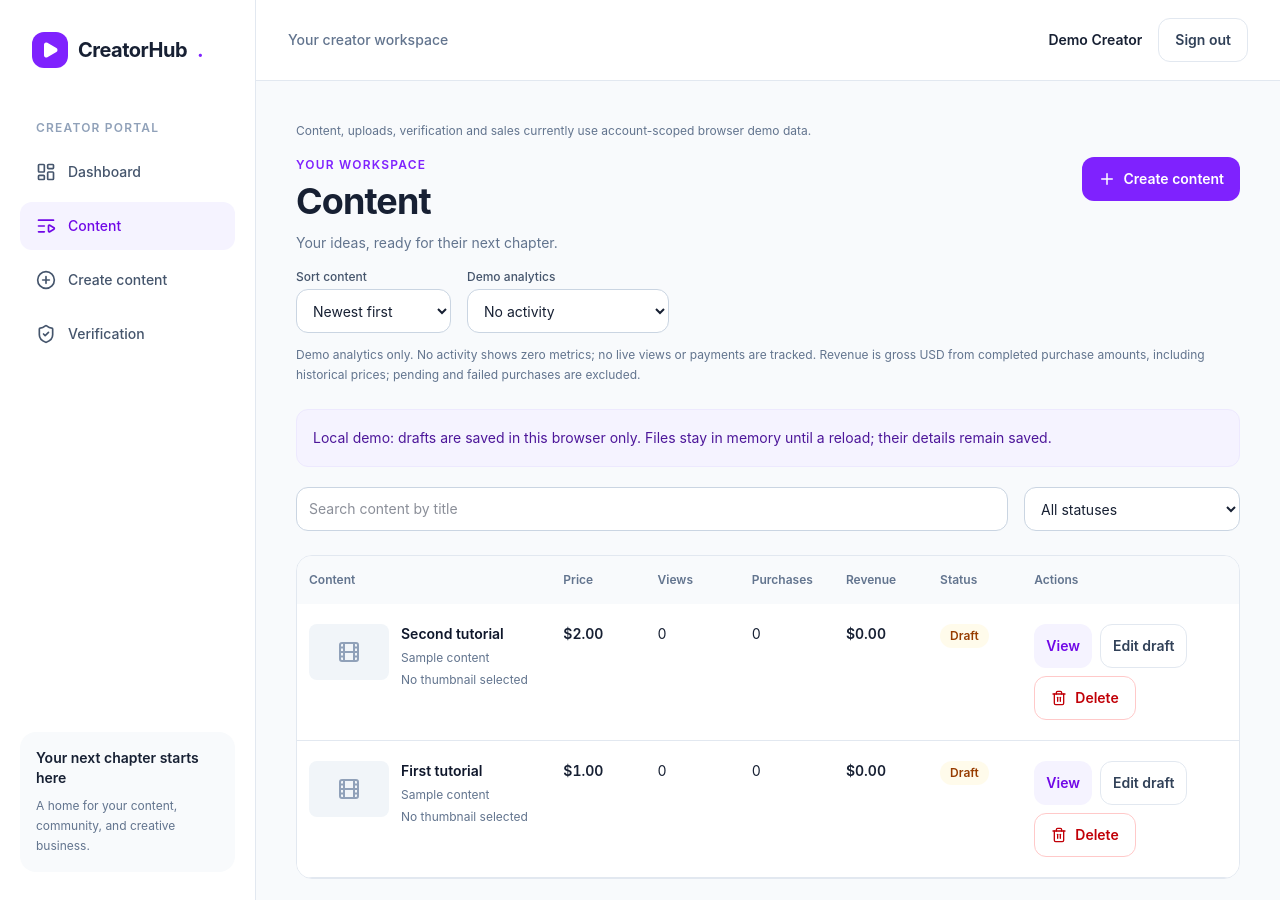
it: publication experience › searches and filters content with a useful no-results state
This screenshot has width=1280, height=900.
In the search field labelled "Search content": (652, 509) [296,487,1008,531], type "First"
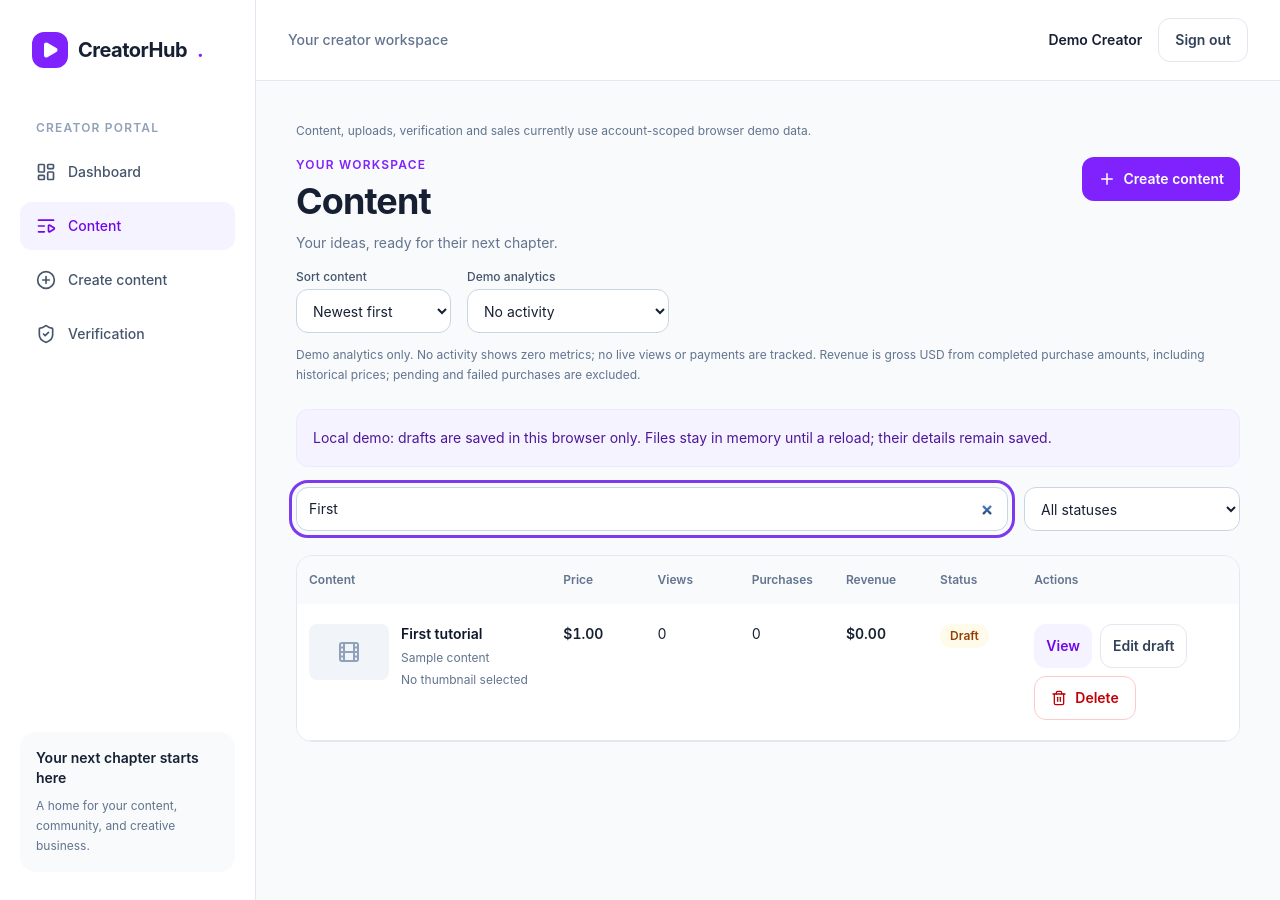
expect the heading "First tutorial" is shown: met, box [401,625,482,642]
expect the heading "Second tutorial" is gone: met
Select "Published" in the dropdown named "Filter by status": (1132, 509) [1024,487,1240,531]
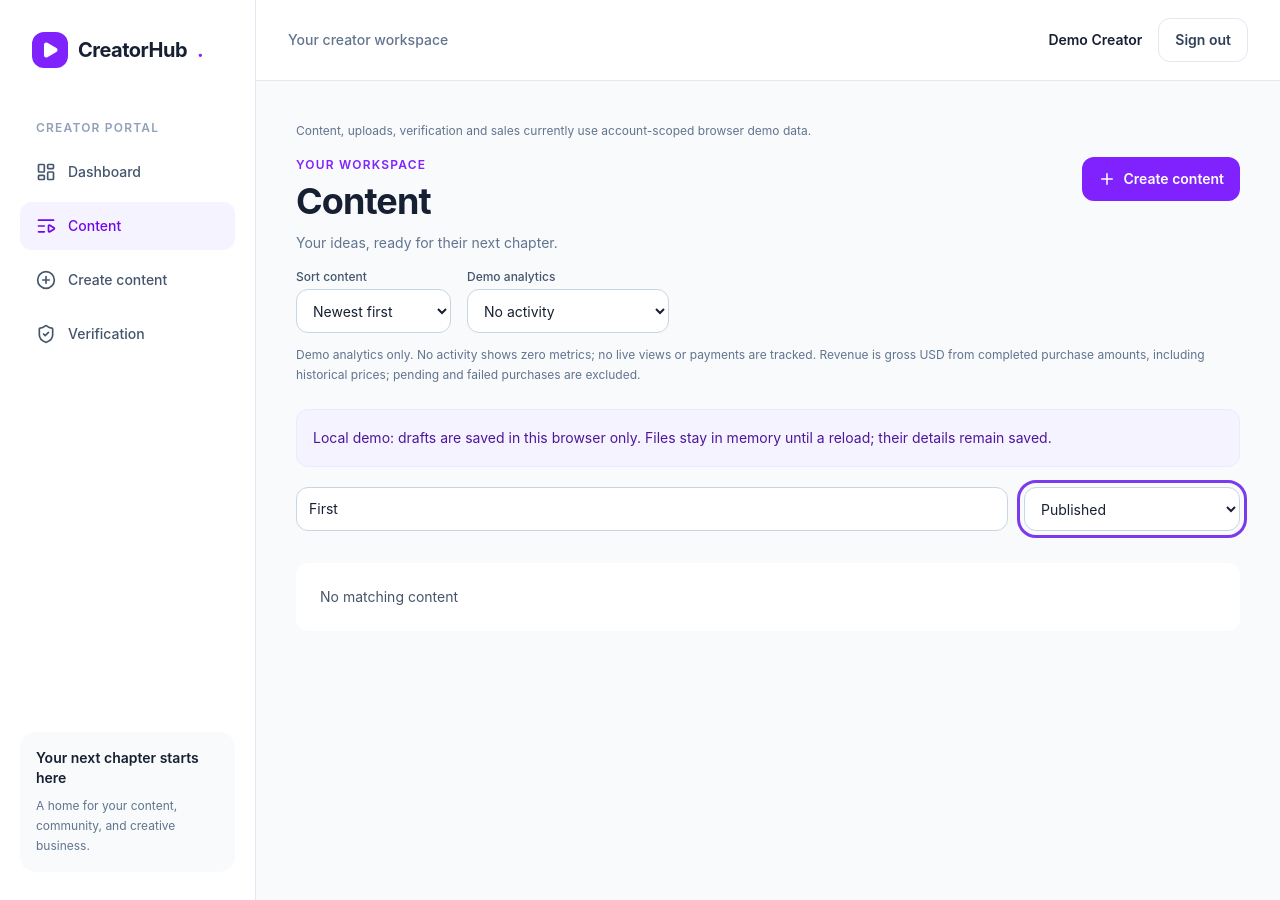
expect the text "No matching content" is shown: met, box [296,563,1240,631]
